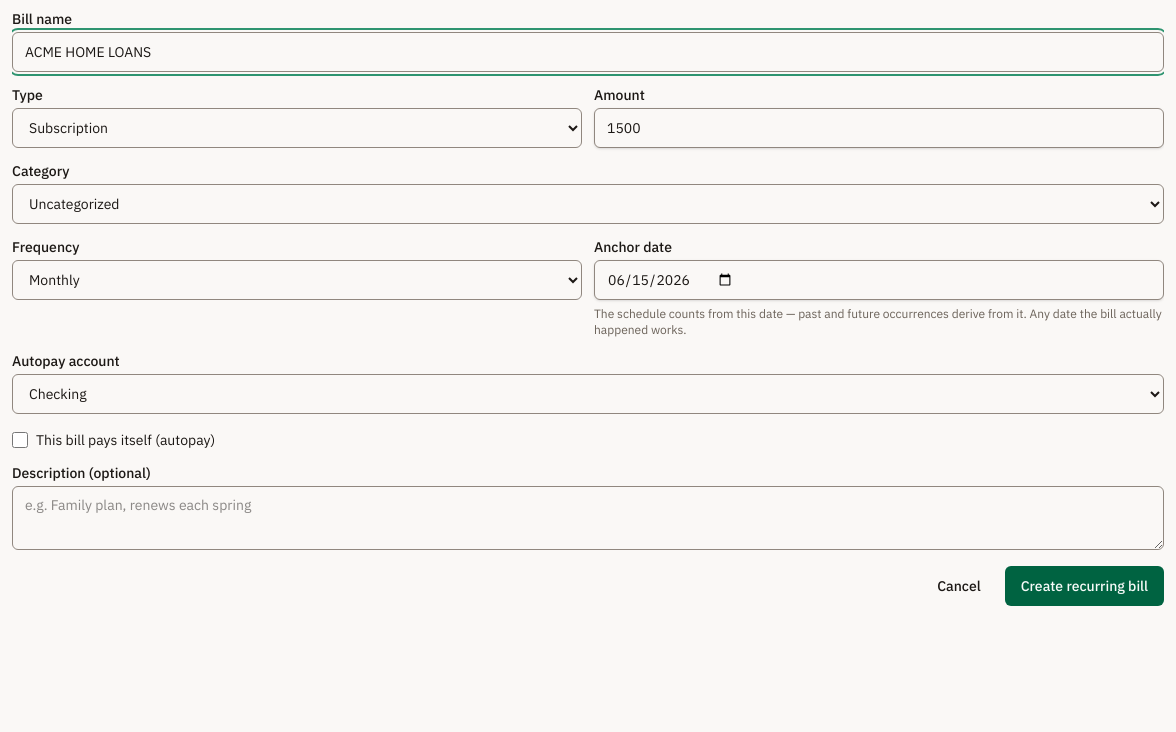
Scenario: a STRONG match stops creation and says this is the loan's payment
The width and height of the screenshot is (1176, 732).
Expected: the field labelled "Bill name" is shown, [12, 32, 1164, 72]
Click the button "Create recurring bill" at x=1084, y=586, box [1005, 566, 1164, 606]
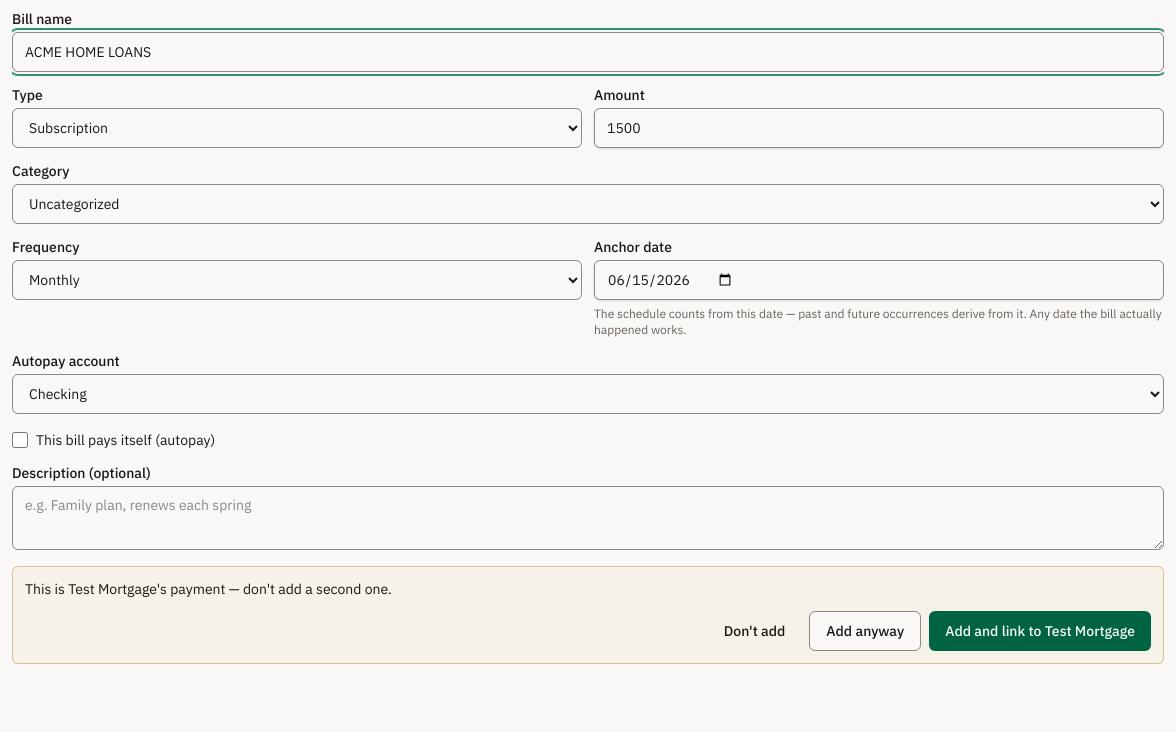
Expected: the text "This is Test Mortgage's payment — don't add a second one." is shown, [25, 580, 392, 598]
